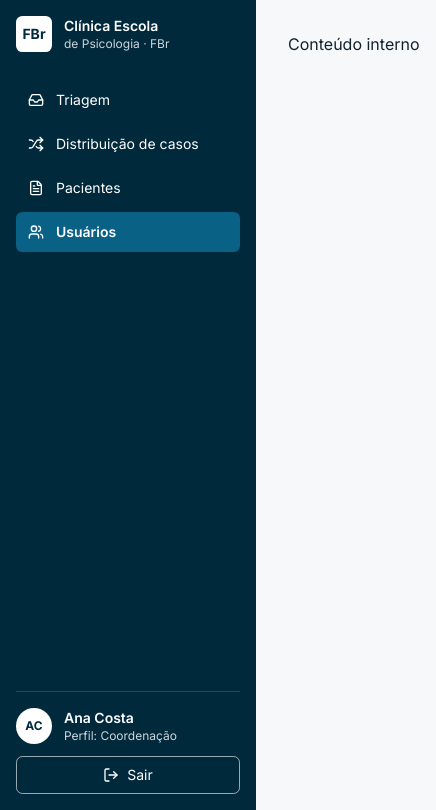
Test case: Sair do sistema (RF51) › sem a confirmação da API, avisa que a sessão continua aberta e permite tentar de novo
Click the button "Sair". click: (128, 775)
box: [16,756,240,794]
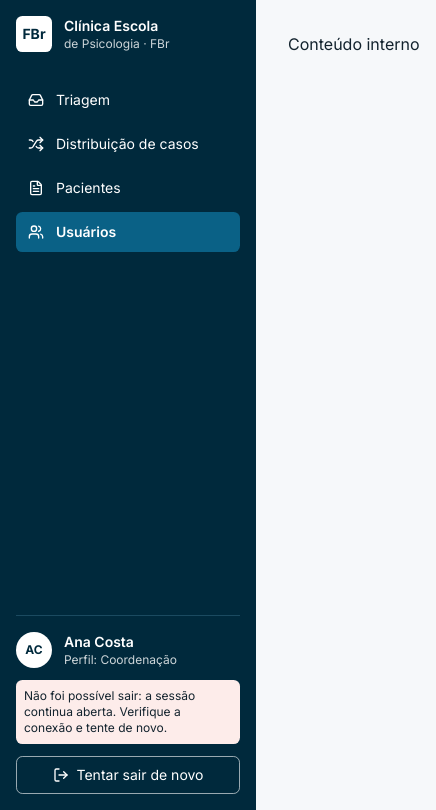
Check: the text "Conteúdo interno" is shown, box [288,34,420,54]
Check: the message is shown, box [16,680,240,744]
Check: the button "Tentar sair de novo" is shown, box [16,756,240,794]
